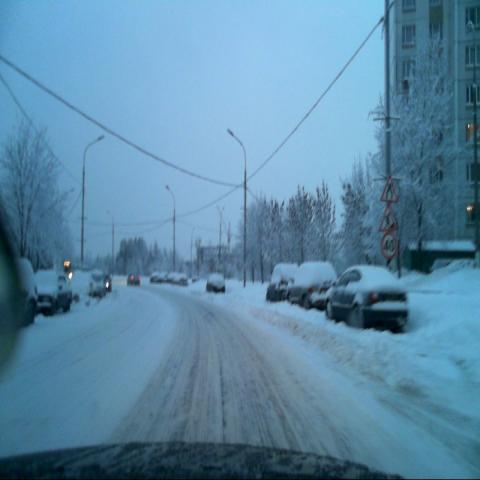1_20: (378, 173, 398, 202)
